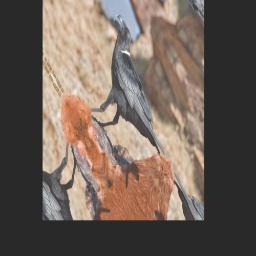Crow: (71, 9, 185, 198)
